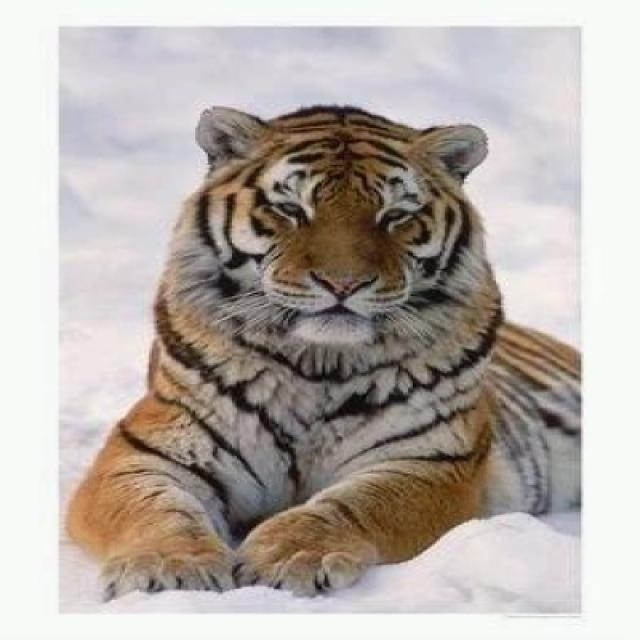Tiger: (66, 99, 585, 601)
